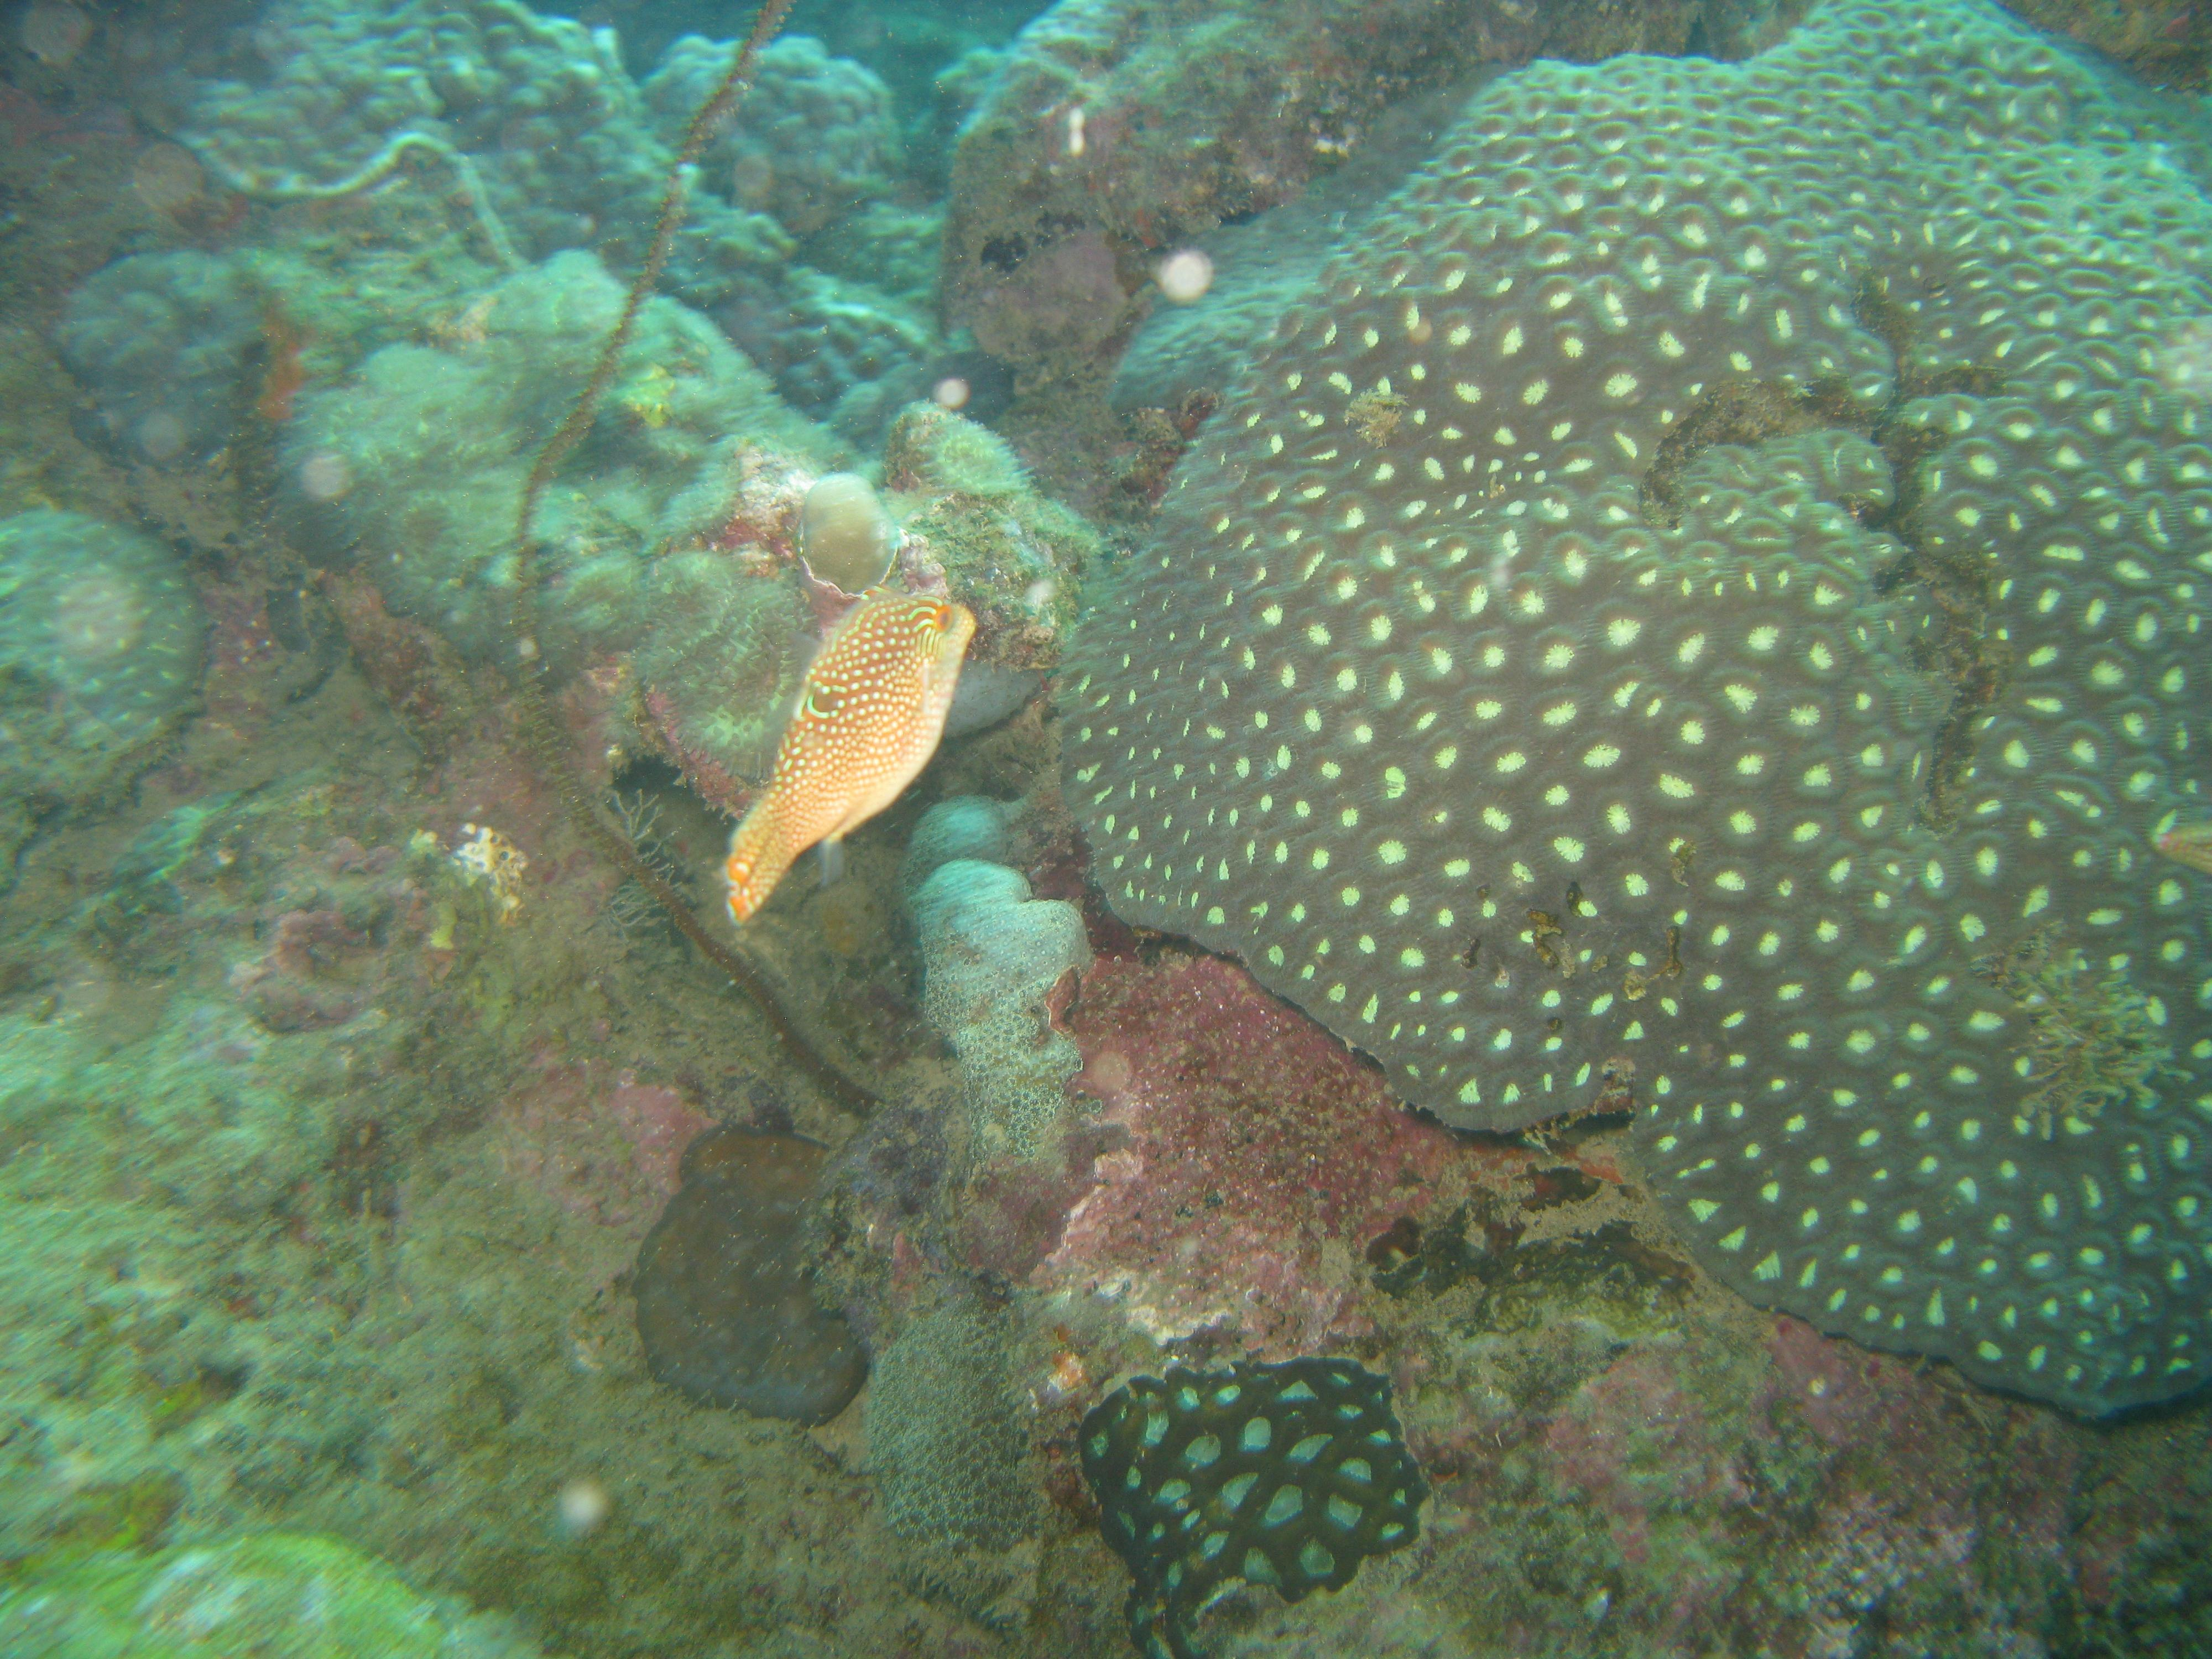Fish: (625, 477, 1054, 986)
